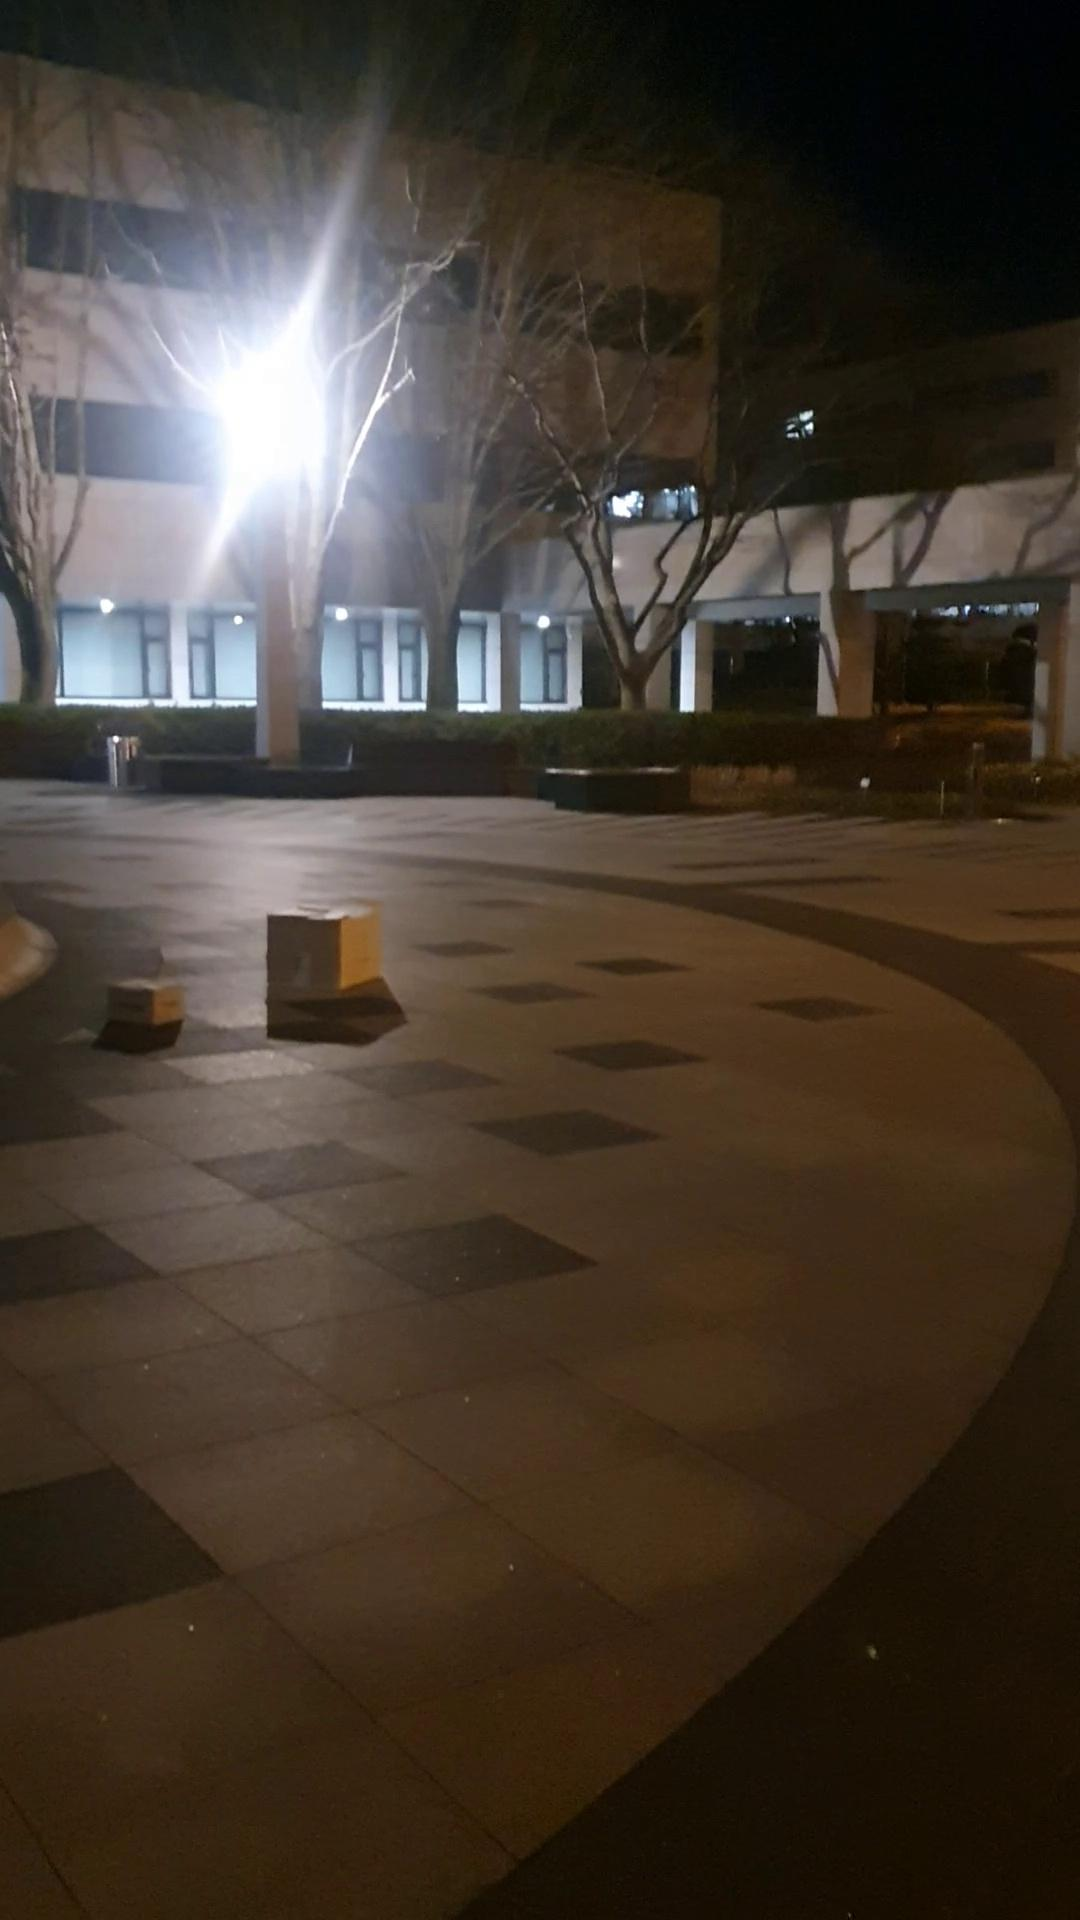Box: (256, 898, 390, 1007), (102, 973, 189, 1043)
